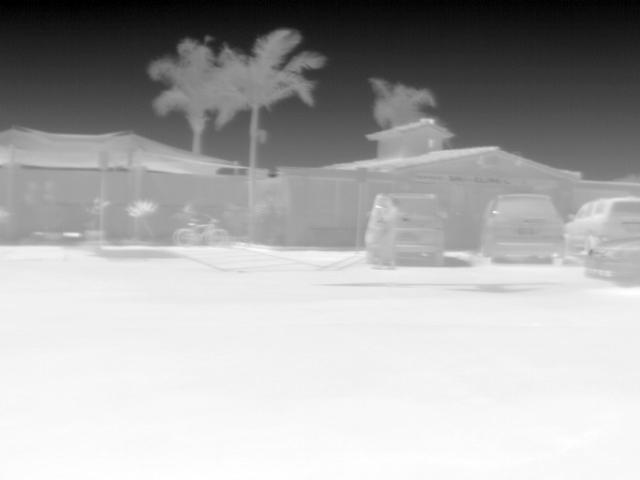car: (477, 192, 567, 264), (563, 195, 638, 259), (392, 194, 446, 265), (586, 236, 638, 291), (364, 194, 384, 257)
person: (370, 195, 399, 270)
